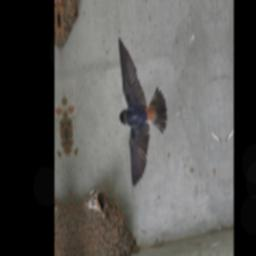Swallow: (112, 27, 172, 191)
